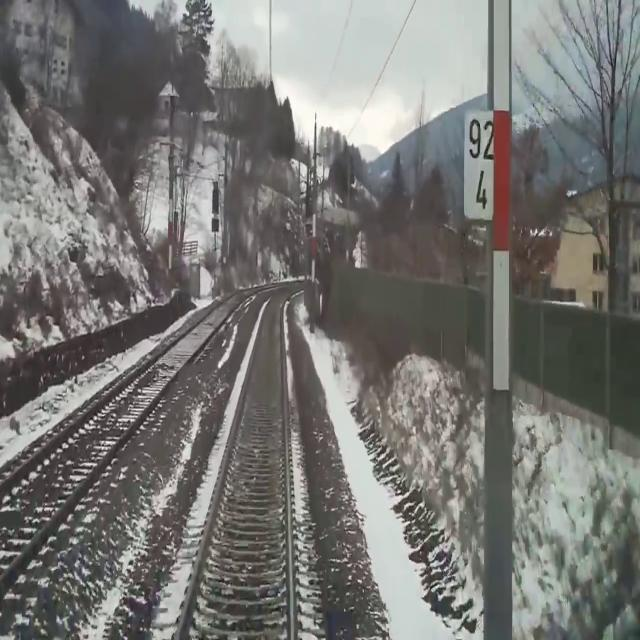rail-track: (0, 288, 257, 572), (180, 292, 290, 639)
